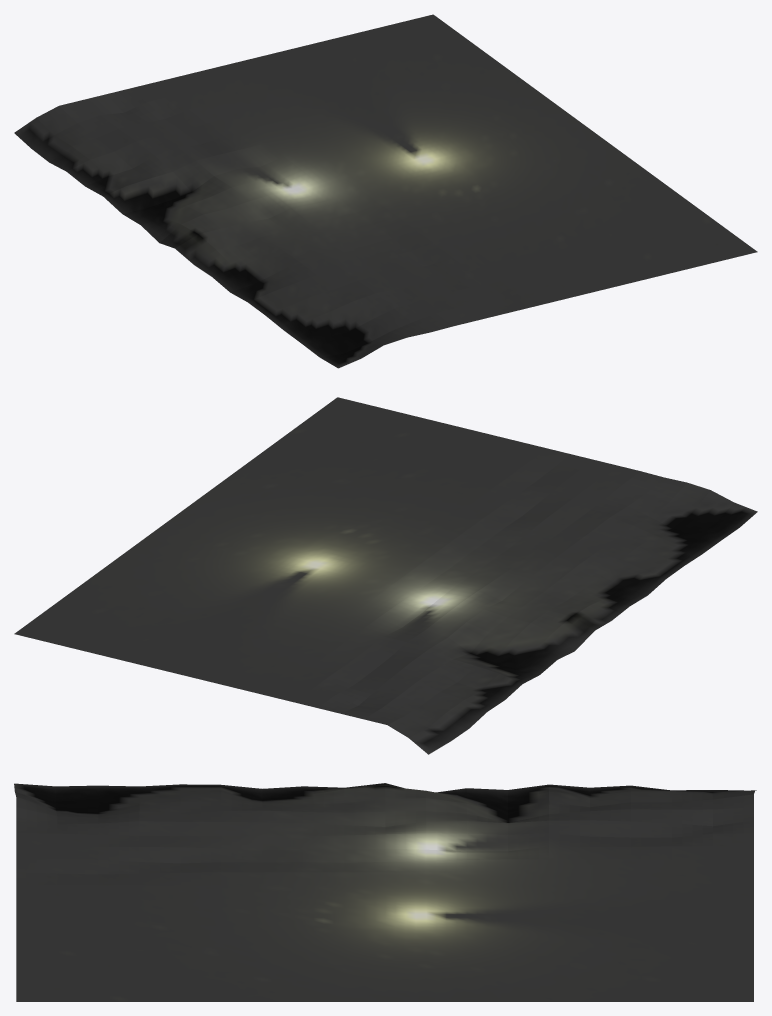
File: ground.obj
3 views of the same model, one above another, from view 1: azimuth 30°, elevation 25°; view 2: azimuth 150°, elevation 25°; view 3: azimuth 270°, elevation 25° (orthographic). The views are drawn at different scales.
Parts seen in each view (by area): view 1: ground; view 2: ground; view 3: ground.
Boxes of the visible parts, <box> form: ground: <box>14,14,757,368</box>; ground: <box>14,397,757,754</box>; ground: <box>14,783,756,1001</box>.
Bounding box in the file's own units: 55.3 × 2.63 × 74.51.
